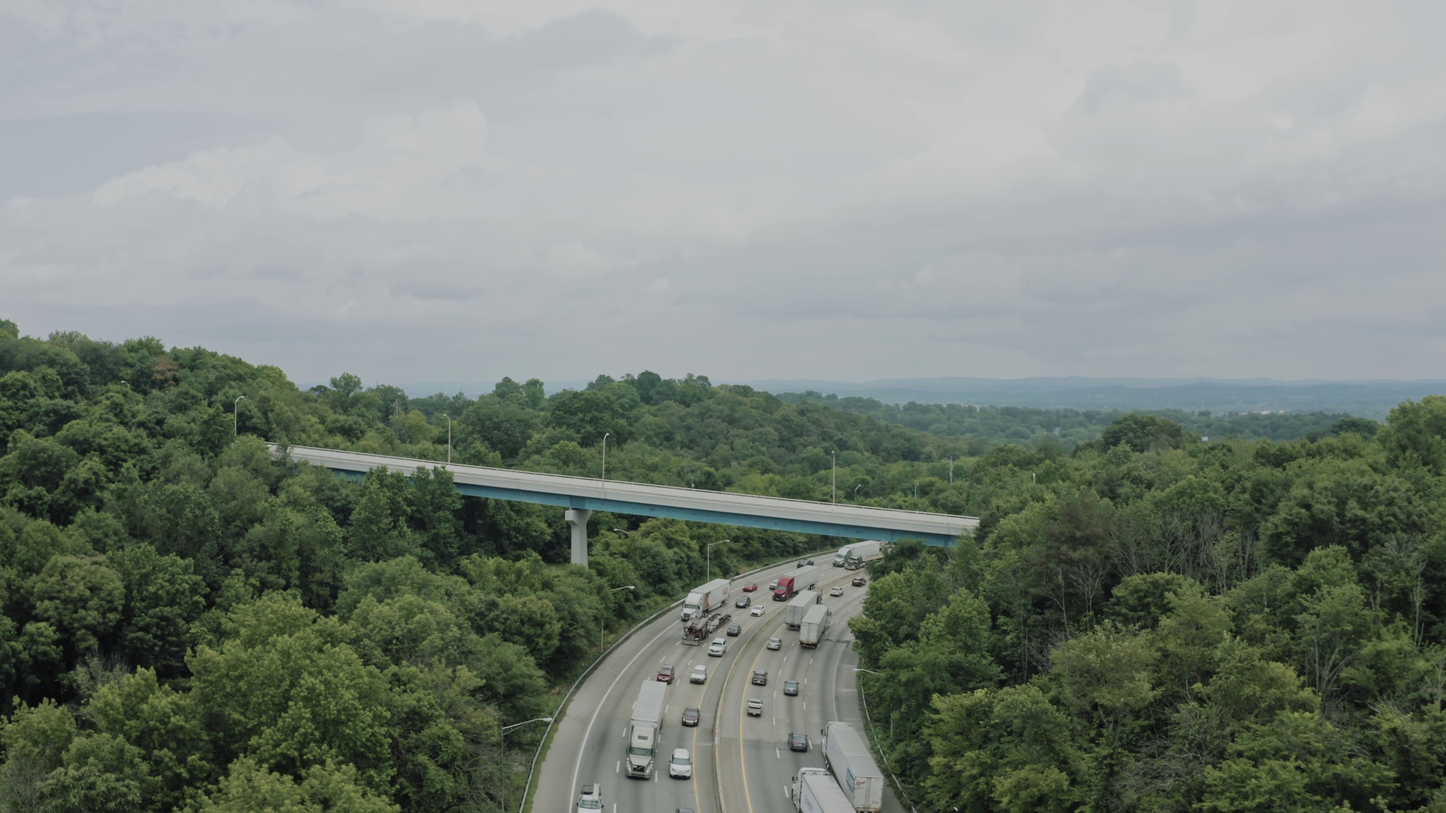Vehicle: (624, 730, 659, 780), (787, 763, 825, 809), (817, 717, 856, 753), (574, 783, 604, 813), (682, 617, 710, 646), (669, 748, 693, 780), (773, 575, 796, 608), (678, 593, 705, 620), (788, 732, 809, 752), (708, 637, 727, 657), (656, 665, 675, 685), (681, 707, 700, 726), (833, 549, 851, 567), (690, 665, 707, 684), (844, 555, 863, 571), (747, 699, 763, 717), (809, 589, 824, 608), (752, 669, 768, 686), (784, 681, 799, 696), (735, 596, 751, 609), (750, 605, 766, 617), (727, 624, 741, 637), (797, 558, 814, 568), (830, 586, 844, 597), (743, 582, 758, 592), (852, 577, 867, 587), (771, 638, 782, 651), (769, 579, 779, 590), (675, 808, 694, 813)
